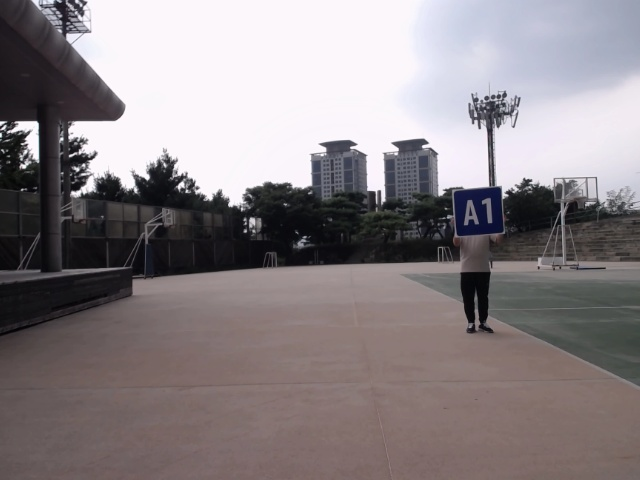delivery_a1: (452, 186, 503, 236)
